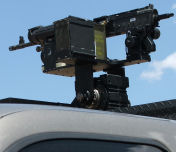rifle: (5, 5, 175, 80)
